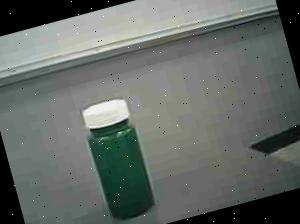Bottle C: (65, 86, 172, 224)
